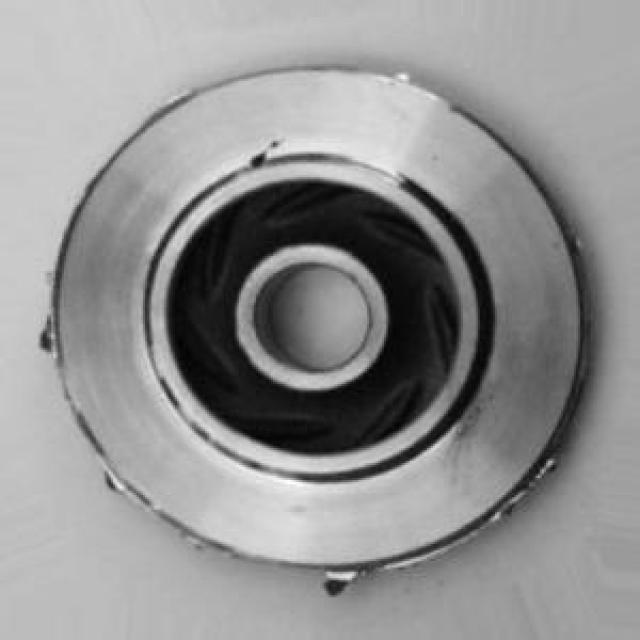Defect: (235, 126, 293, 173)
